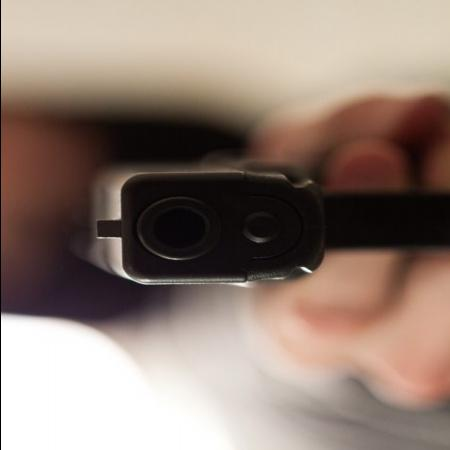Pistol: (63, 158, 449, 290)
